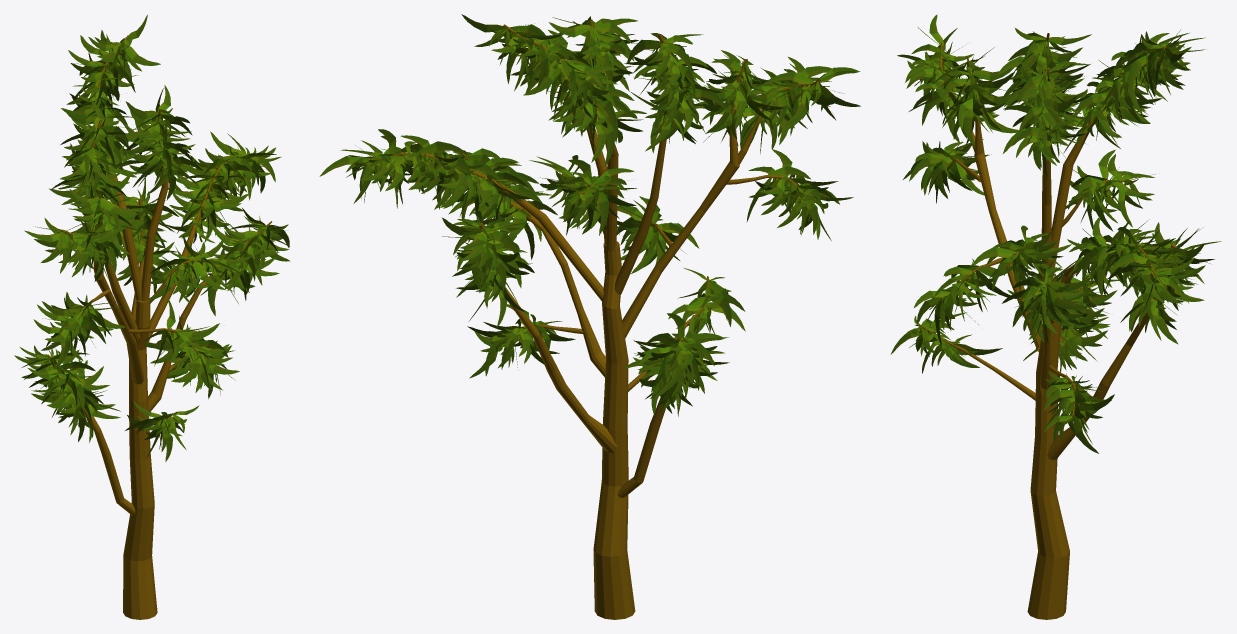
Rendered from Gum Tree.fbx.
3 renders of one model, left to right at view 1: azimuth 30°, elevation 25°; view 2: azimuth 150°, elevation 25°; view 3: azimuth 270°, elevation 25°, orthographic. The views are drawn at different scales.
Parts seen in each view (by area): view 1: Leaves, Gum Tree; view 2: Leaves, Gum Tree; view 3: Leaves, Gum Tree.
Part boxes in pixels (<box>): Leaves: <box>14,14,290,461</box>; Gum Tree: <box>47,35,271,619</box>; Leaves: <box>319,14,860,416</box>; Gum Tree: <box>370,19,821,619</box>; Leaves: <box>890,14,1221,453</box>; Gum Tree: <box>918,33,1175,619</box>.
Bounding box in the file's own units: 929 × 1370 × 691.
